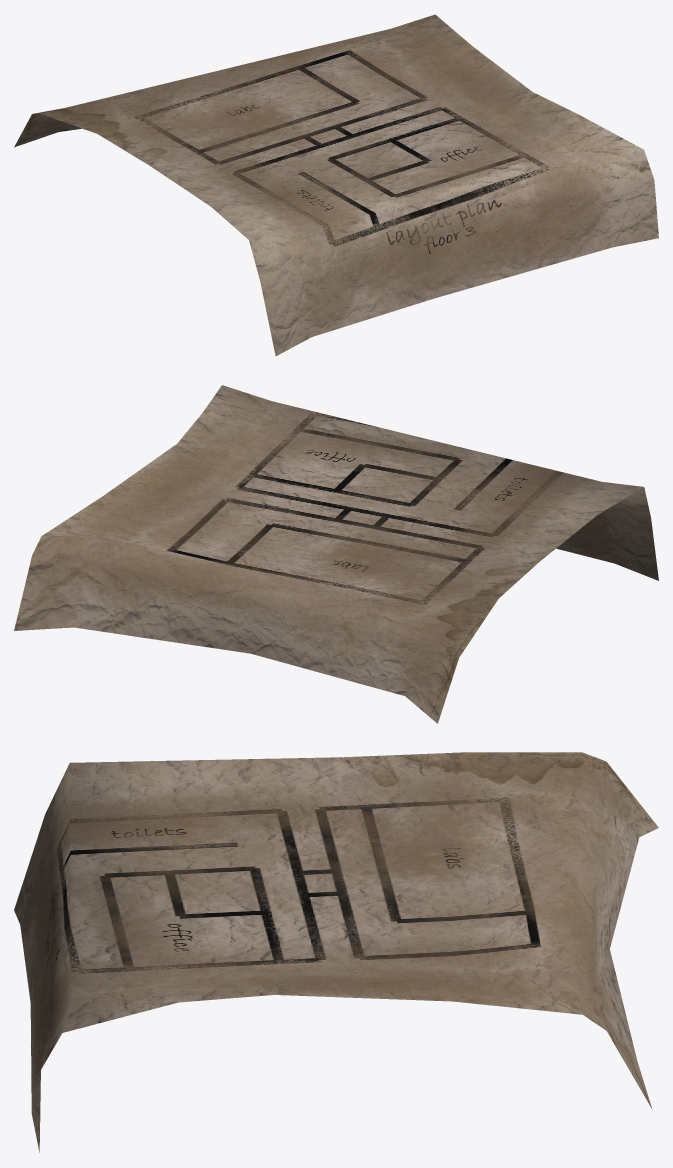
The model's file is Layout.FBX.
3 views of the same model, one above another, from view 1: azimuth 30°, elevation 25°; view 2: azimuth 150°, elevation 25°; view 3: azimuth 270°, elevation 25° (orthographic). The views are drawn at different scales.
Parts seen in each view (by area): view 1: Layout; view 2: Layout; view 3: Layout.
Part boxes in pixels (box(x1,y1,x2,y2)): Layout: box(14, 14, 658, 355); Layout: box(14, 385, 658, 723); Layout: box(14, 752, 658, 1152).
Bounding box in the file's own units: 121 × 30.14 × 116.
1 material, 1 textured.
